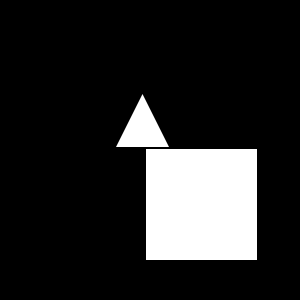circle: (146, 149, 257, 260)
triangle: (116, 94, 169, 147)
